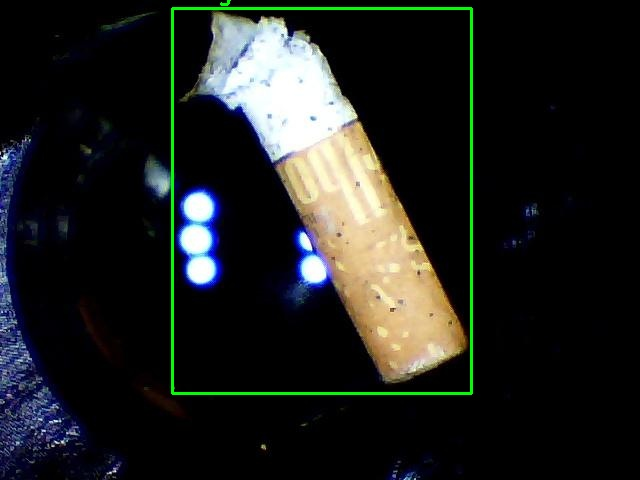megot: (172, 8, 471, 393)
